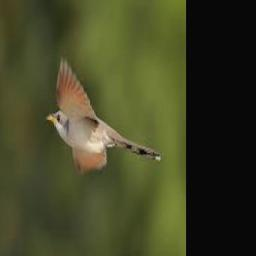Cuckoo: (46, 58, 161, 169)
